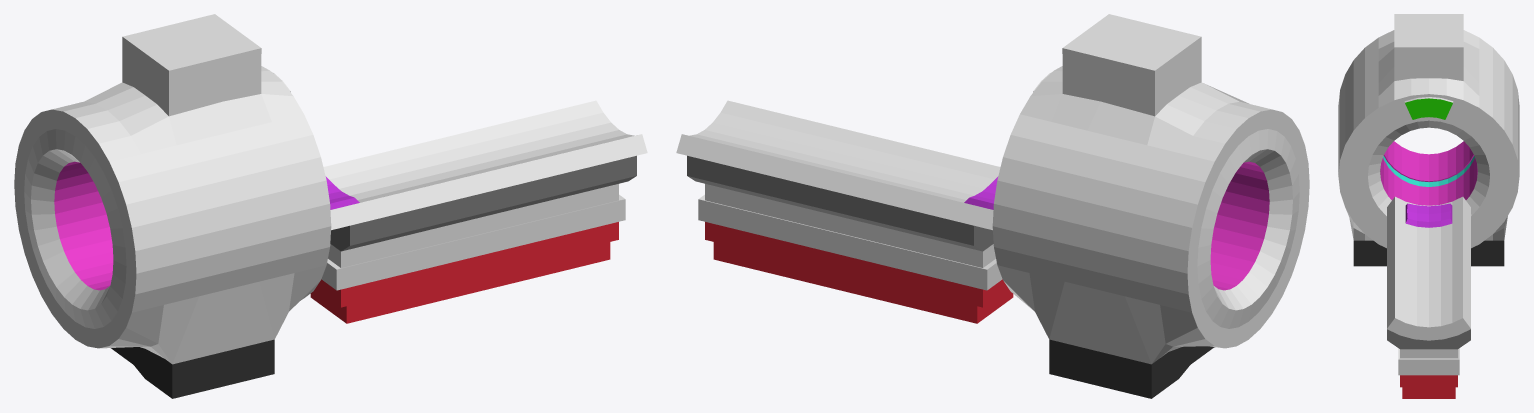
File: mri.fbx
3 renders of one model, left to right at view 1: azimuth 30°, elevation 25°; view 2: azimuth 150°, elevation 25°; view 3: azimuth 270°, elevation 25°, orthographic. The views are drawn at different scales.
Parts seen in each view (by area): view 1: MRI, BedStand, Bed; view 2: MRI, BedStand, Bed; view 3: MRI, Bed, BedStand.
Part boxes in pixels (box(x1,y1,x2,y2)): MRI: box(14, 14, 331, 398); BedStand: box(310, 155, 636, 323); Bed: box(323, 100, 647, 230); MRI: box(992, 14, 1309, 398); BedStand: box(687, 155, 1013, 323); Bed: box(676, 100, 1000, 230); MRI: box(1338, 14, 1519, 266); Bed: box(1387, 196, 1470, 340); BedStand: box(1387, 329, 1470, 398).
Size of the model in its own units: 517 by 273 by 200.
